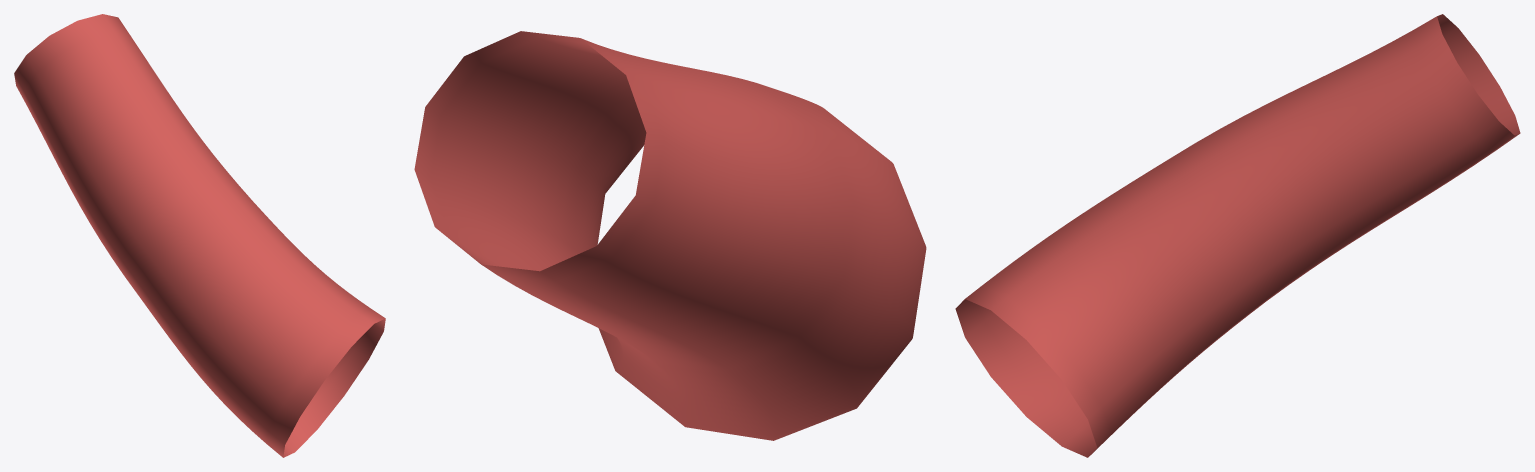
3 renders of one model, left to right at view 1: azimuth 30°, elevation 25°; view 2: azimuth 150°, elevation 25°; view 3: azimuth 270°, elevation 25°, orthographic. The views are drawn at different scales.
Visible parts, largest first — view 1: 右肺下叶动脉; view 2: 右肺下叶动脉; view 3: 右肺下叶动脉.
Part boxes in pixels (x1,y1,x2,y2): 右肺下叶动脉: (14, 14, 385, 457); 右肺下叶动脉: (414, 31, 926, 440); 右肺下叶动脉: (955, 14, 1520, 457).
Size of the model in its own units: 0.0268 by 0.0435 by 0.0564.
